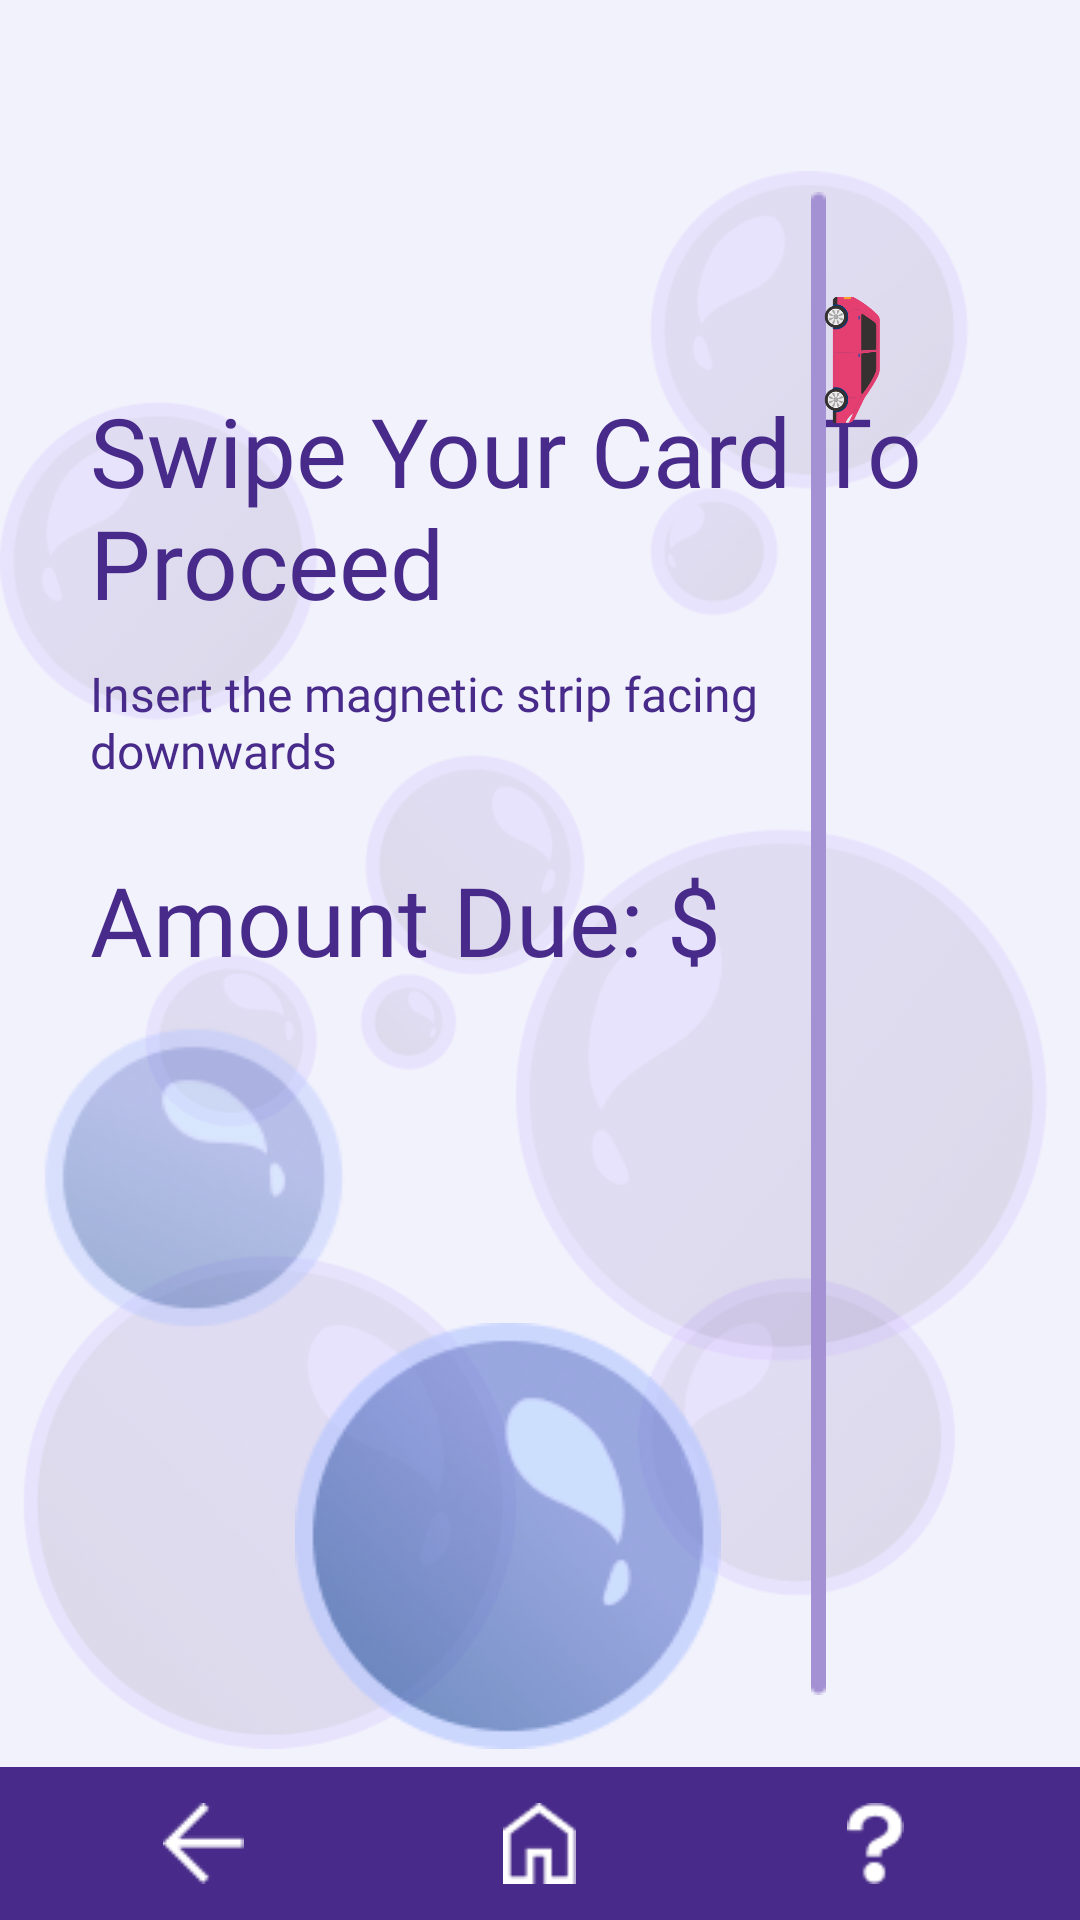

Named icons in this screenshot (1080×1920) and their centers, (x=x, y=y):
Back Button: (x=203, y=1843)
Help Button: (x=875, y=1843)
Home Button: (x=539, y=1843)
